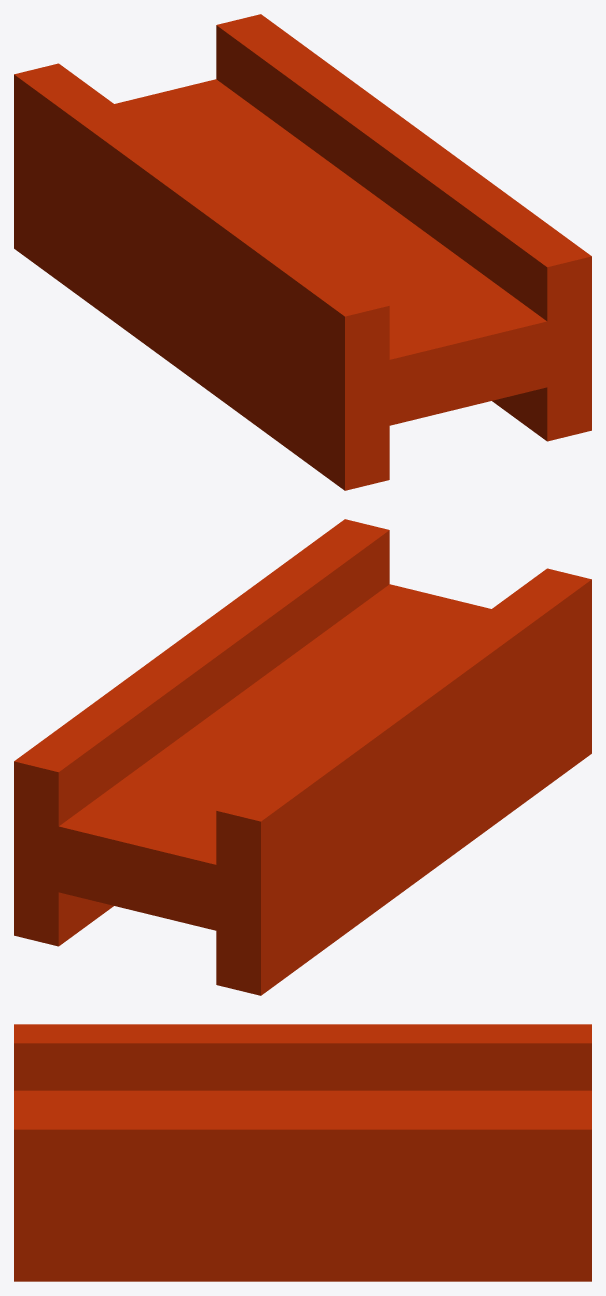
Rendered from Prop_Industrial_Beam_H_01.FBX.
3 views of the same model, one above another, from view 1: azimuth 30°, elevation 25°; view 2: azimuth 150°, elevation 25°; view 3: azimuth 270°, elevation 25° (orthographic). The views are drawn at different scales.
Visible parts, largest first — view 1: Prop_Industrial_Beam_H_01; view 2: Prop_Industrial_Beam_H_01; view 3: Prop_Industrial_Beam_H_01.
Part boxes in pixels (x1,y1,x2,y2): Prop_Industrial_Beam_H_01: (14, 14, 591, 490); Prop_Industrial_Beam_H_01: (14, 519, 591, 995); Prop_Industrial_Beam_H_01: (14, 1024, 591, 1281).
Size of the model in its own units: 862 by 581 by 2000.
